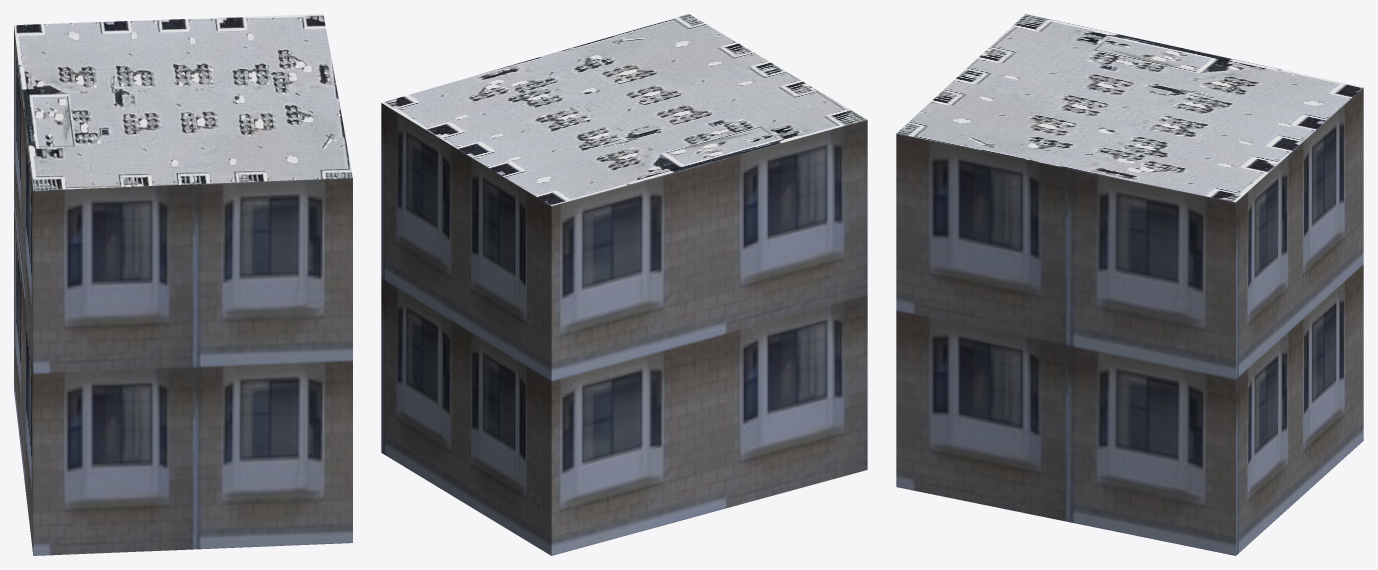
Rendered from ResTex__574.fbx.
The picture shows the model from 3 angles, left to right: view 1: azimuth 30°, elevation 25°; view 2: azimuth 150°, elevation 25°; view 3: azimuth 270°, elevation 25°; orthographic projection. The views are drawn at different scales.
Visible parts, largest first — view 1: CityEngineMaterial_3_m, CityEngineMaterial_8_m; view 2: CityEngineMaterial_3_m, CityEngineMaterial_8_m; view 3: CityEngineMaterial_3_m, CityEngineMaterial_8_m.
Boxes of the visible parts, box(x1,y1,x2,y2) form: CityEngineMaterial_3_m: box(14, 26, 352, 555); CityEngineMaterial_8_m: box(14, 14, 352, 190); CityEngineMaterial_3_m: box(381, 103, 867, 555); CityEngineMaterial_8_m: box(381, 14, 866, 205); CityEngineMaterial_3_m: box(896, 87, 1363, 555); CityEngineMaterial_8_m: box(897, 14, 1362, 202).
Size of the model in its own units: 6.86 by 6 by 7.18.
Materials: 2 (2 with a texture image).
